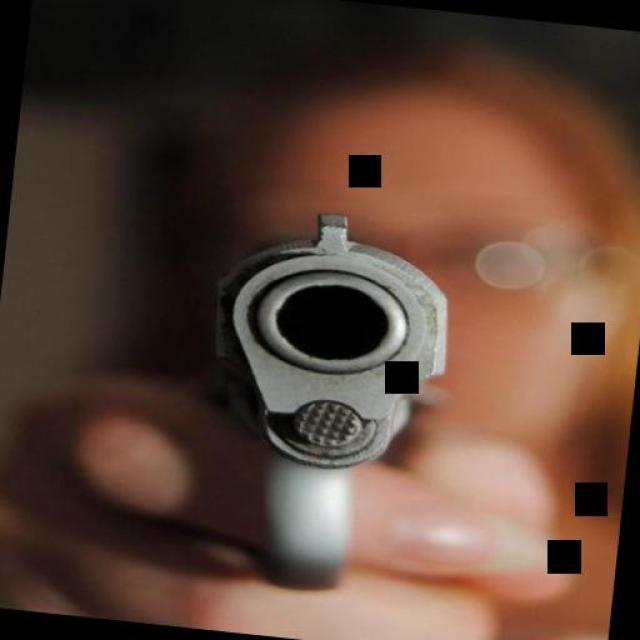gun: (154, 185, 480, 606)
